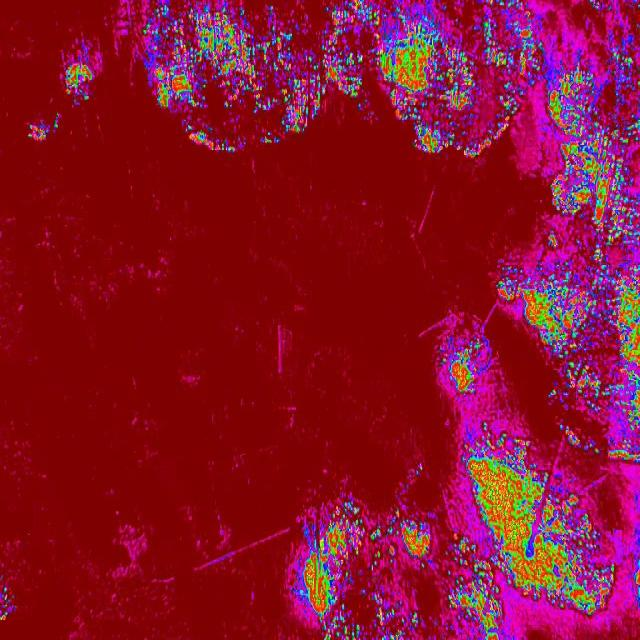fire: (378, 0, 640, 156), (143, 0, 325, 149), (466, 440, 614, 614), (294, 507, 426, 638), (499, 254, 640, 354), (541, 154, 640, 254), (548, 353, 640, 441), (324, 0, 378, 118), (442, 535, 501, 640), (424, 328, 497, 396), (57, 50, 106, 96), (27, 111, 62, 148), (614, 440, 640, 472), (631, 529, 640, 609)
